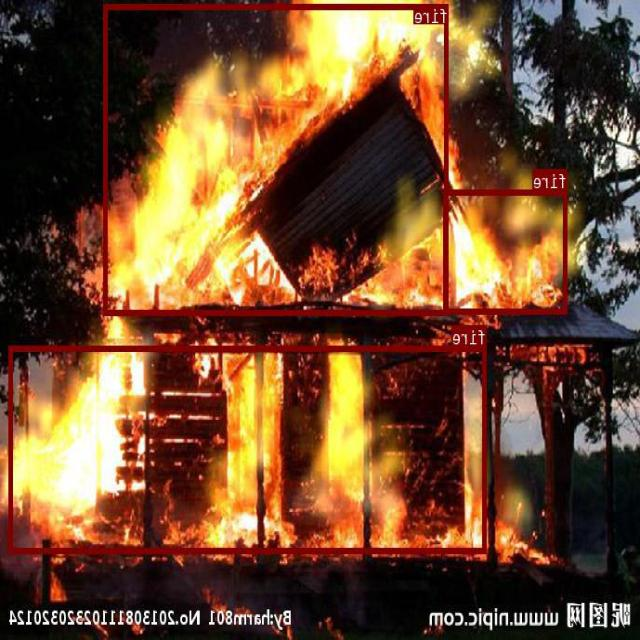fire: (105, 3, 449, 314), (10, 345, 487, 552), (444, 188, 568, 313)
